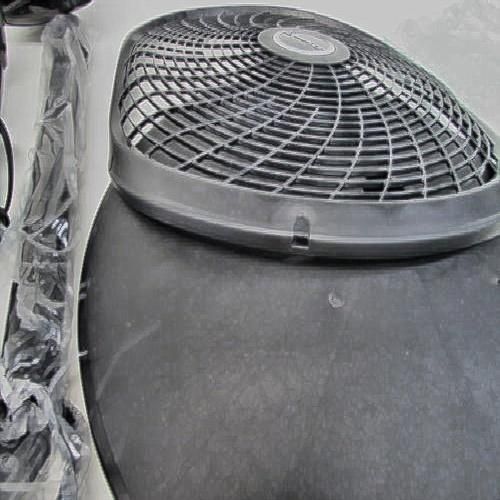fan: (110, 5, 490, 244)
